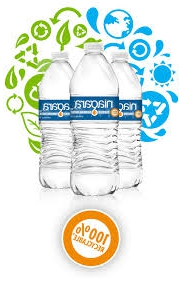plastic water bottle: (68, 40, 121, 196), (34, 45, 80, 193), (106, 46, 145, 190)
